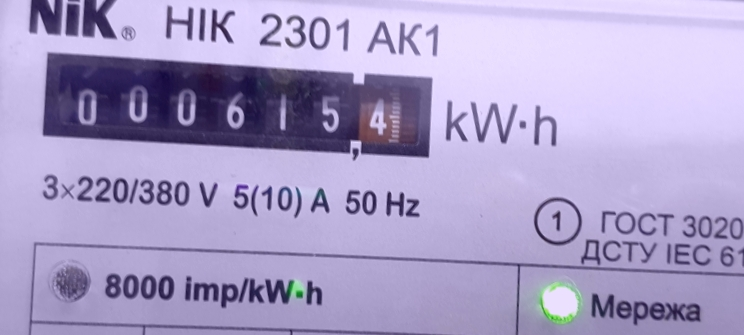0: (171, 84, 200, 129), (72, 84, 101, 127), (124, 81, 150, 123)
1: (274, 90, 291, 132)
4: (366, 94, 388, 136)
5: (316, 91, 343, 135)
6: (221, 88, 248, 130)
screen: (25, 32, 448, 180)
